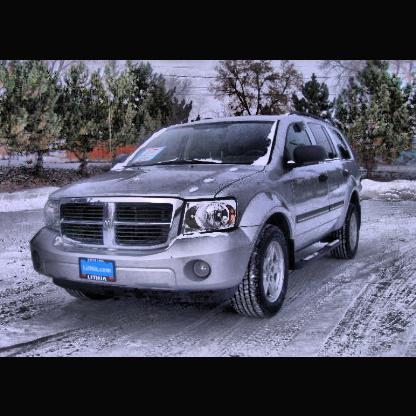Dodge Durango SUV 2007: (33, 114, 365, 320)
